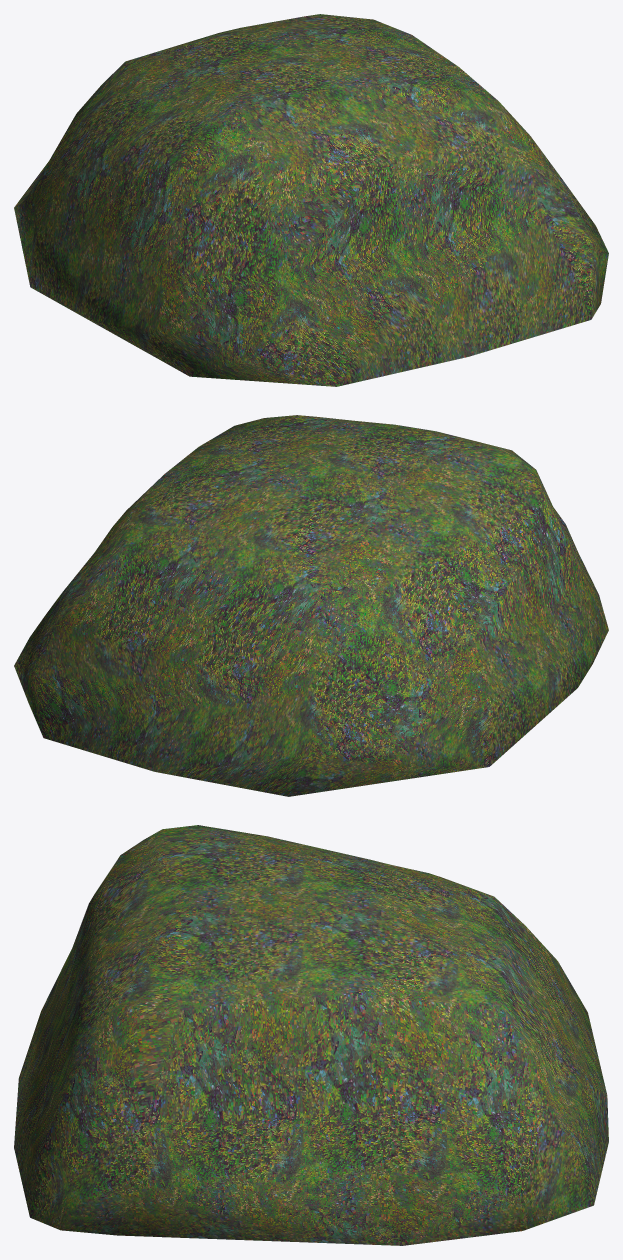
Rendered from rock_mossy_big_a1_l0.fbx.
3 views of the same model, one above another, from view 1: azimuth 30°, elevation 25°; view 2: azimuth 150°, elevation 25°; view 3: azimuth 270°, elevation 25° (orthographic). The views are drawn at different scales.
Parts seen in each view (by area): view 1: mesh_node; view 2: mesh_node; view 3: mesh_node.
Boxes of the visible parts, x1,y1,x2,y2 form: mesh_node: [14, 14, 608, 386]; mesh_node: [14, 415, 608, 796]; mesh_node: [14, 825, 608, 1245].
Size of the model in its own units: 6.54 by 2.94 by 6.58.
